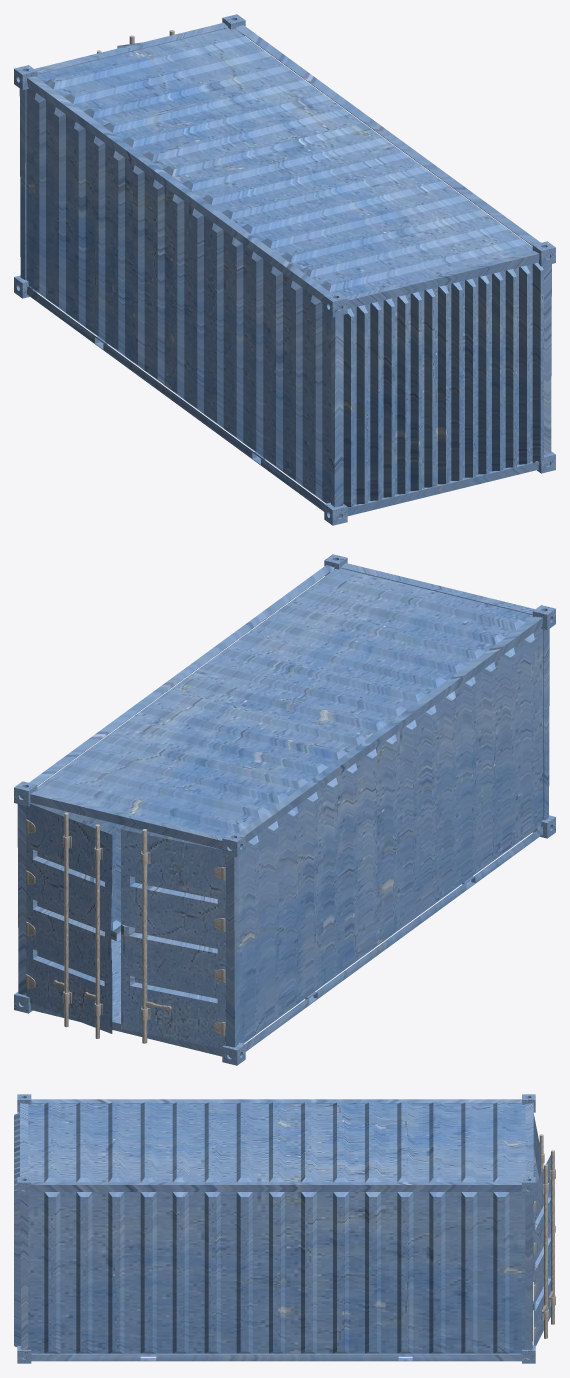
The model's file is ContainerOpen.fbx.
3 renders of one model, top to bottom at view 1: azimuth 30°, elevation 25°; view 2: azimuth 150°, elevation 25°; view 3: azimuth 270°, elevation 25°, orthographic. The views are drawn at different scales.
Visible parts, largest first — view 1: Container3_polySurface9_polySurfaceShape9; view 2: Container3_polySurface9_polySurfaceShape9; view 3: Container3_polySurface9_polySurfaceShape9.
Boxes of the visible parts, x1,y1,x2,y2 form: Container3_polySurface9_polySurfaceShape9: (14, 14, 555, 525); Container3_polySurface9_polySurfaceShape9: (14, 554, 555, 1065); Container3_polySurface9_polySurfaceShape9: (14, 1094, 555, 1363).
Size of the model in its own units: 5.19 by 4.96 by 13.4.
4 materials, 4 textured.
